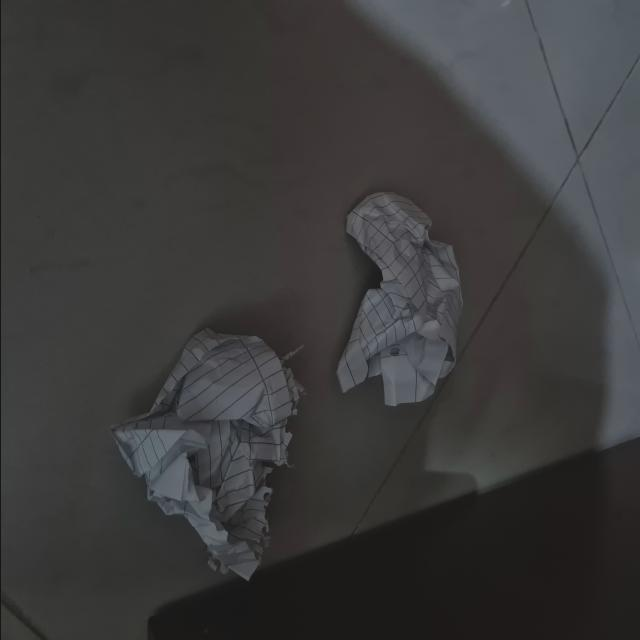Paper: (291, 190, 513, 431), (140, 330, 322, 574)
